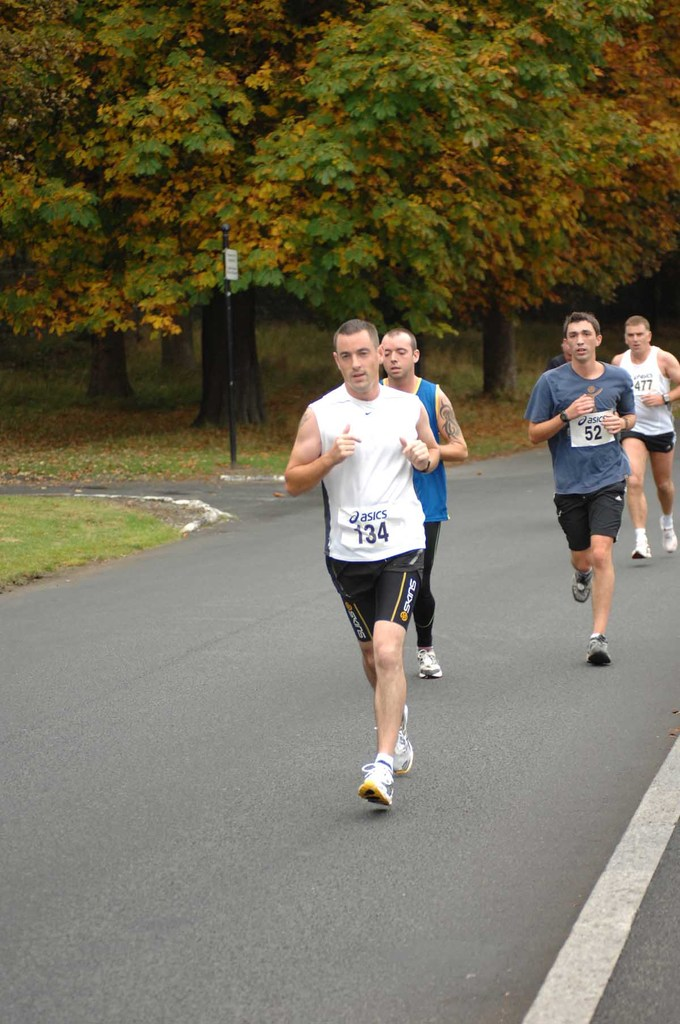Tree: (0, 0, 679, 438)
